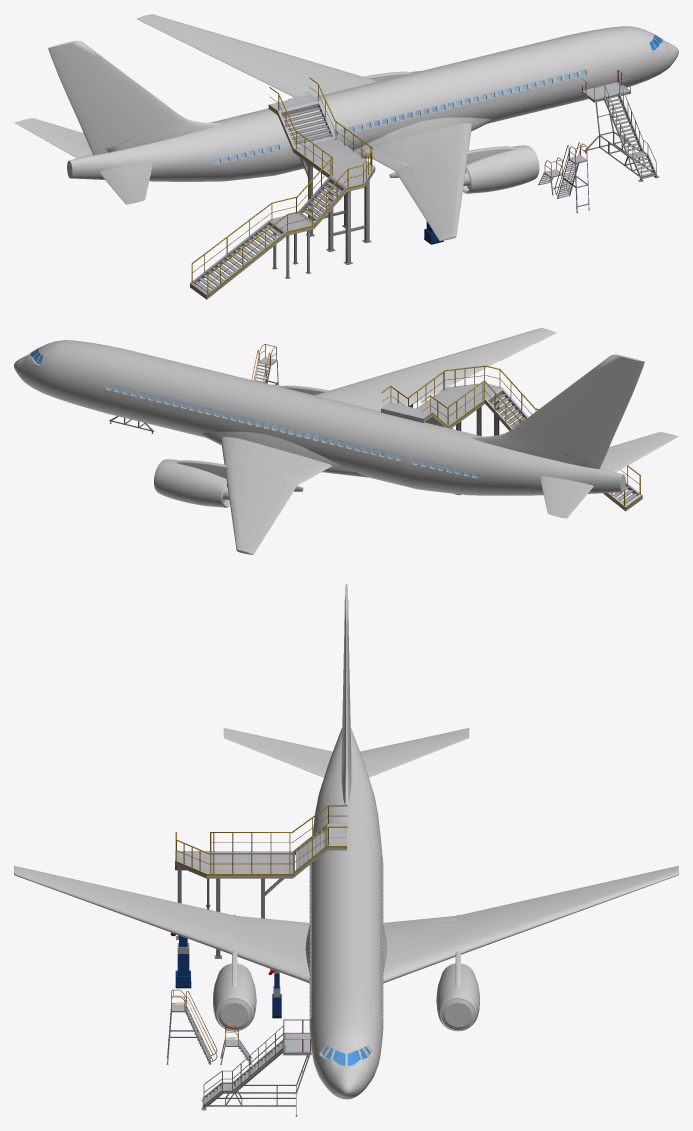
File: Airplane_v2.FBX
3 renders of one model, top to bottom at view 1: azimuth 30°, elevation 25°; view 2: azimuth 150°, elevation 25°; view 3: azimuth 270°, elevation 25°, orthographic. The views are drawn at different scales.
Visible parts, largest first — view 1: mc21, Platform2, Platform1, mc21Windows, StairsSmall2; view 2: mc21, Platform2, mc21Windows, StairsSmall2; view 3: mc21, Platform2, Platform1, StairsSmall2.
Boxes of the visible parts, x1,y1,x2,y2 form: mc21: (14,14,678,240); Platform2: (190,77,375,299); Platform1: (581,70,659,181); mc21Windows: (215,35,662,163); StairsSmall2: (554,142,589,213); mc21: (14,328,678,554); Platform2: (381,365,642,511); mc21Windows: (30,349,477,477); StairsSmall2: (251,344,278,385); mc21: (14,583,678,1099); Platform2: (175,805,347,958); Platform1: (201,1019,311,1116); StairsSmall2: (166,989,217,1064).
Bounding box in the file's own units: 72603 × 60514 × 23604.
